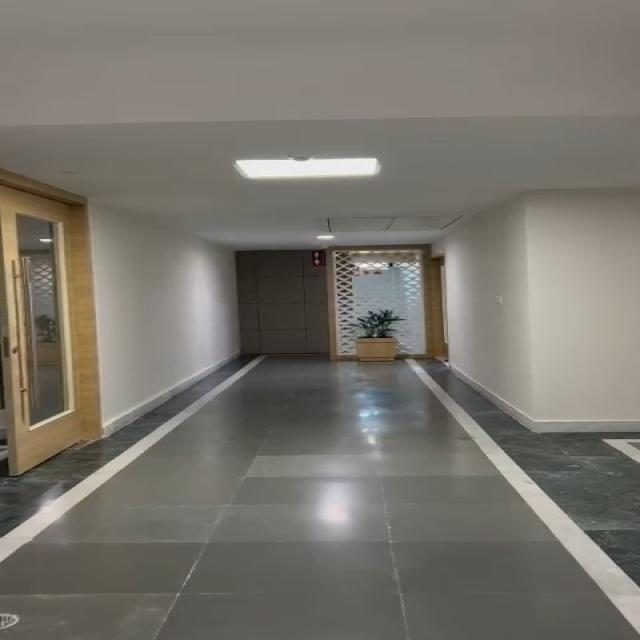door: (0, 173, 97, 468)
floor: (32, 441, 640, 640), (171, 360, 479, 434)
furniture: (342, 300, 400, 370)
wall: (435, 203, 640, 421), (78, 218, 261, 380)
